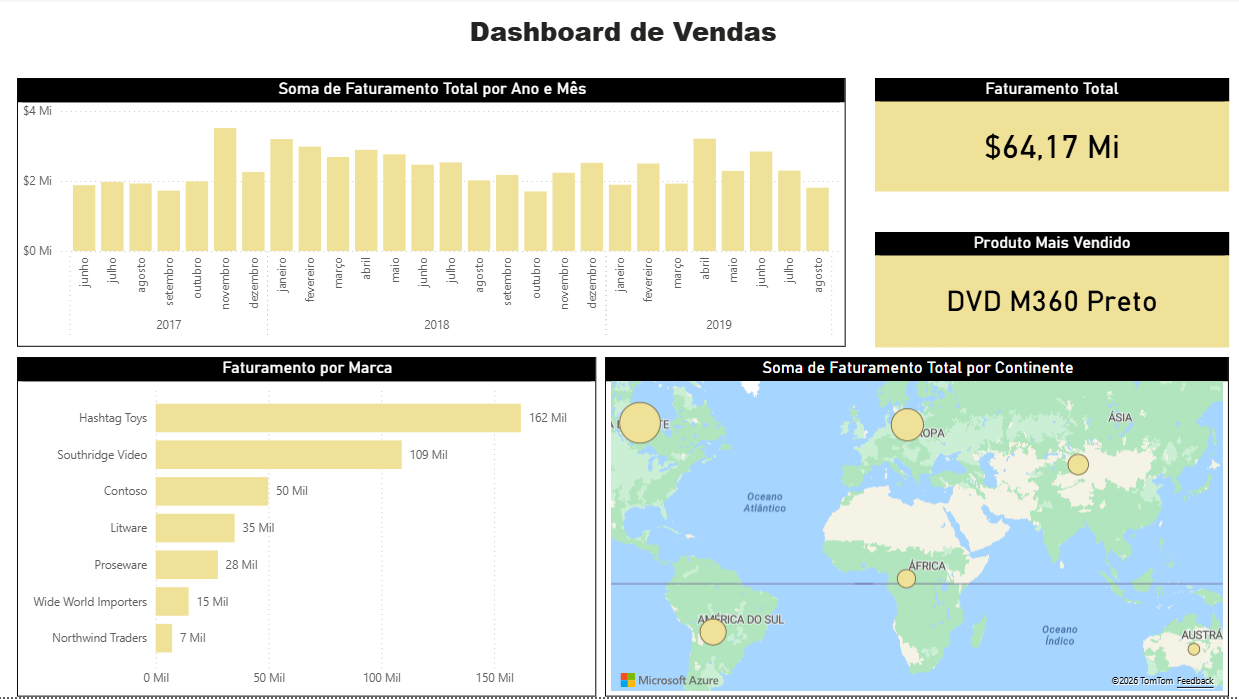

This screenshot's page, from the dashboard's own definition file:
{"tool":"powerbi","page":{"name":"Página 1","canvas":[1280,720],"ordinal":0},"visuals":[{"type":"card","title":"Faturamento Total","fields":{"Values":["Sum(DataBase.Faturamento Total)"]},"box":[904.9,82.4,364.8,117.5],"z":0},{"type":"card","title":"Produto Mais Vendido","fields":{"Values":["Min(DataBase.Produto)"]},"box":[904.6,241.4,365.1,118.6],"z":1000},{"type":"barChart","title":"Faturamento por Marca","fields":{"Category":["DataBase.Marca"],"Y":["Sum(DataBase.Qtd. Vendida)"]},"box":[20.6,370,596.7,350.4],"z":2000},{"type":"columnChart","fields":{"Category":["DataBase.Data da Venda.Variation.Hierarquia de datas.Ano","DataBase.Data da Venda.Variation.Hierarquia de datas.Mês"],"Y":["Sum(DataBase.Faturamento Total)"]},"box":[20.6,82.4,854.4,277.2],"z":3000},{"type":"azureMap","fields":{"Size":["Sum(DataBase.Faturamento Total)"],"Category":["DataBase.Continente"]},"box":[626.6,370,643.1,350.4],"z":4000},{"type":"textbox","box":[20.6,10.3,1249.1,51.5],"z":5000}]}

Visuals, with their boxes in screenshot pixels (x1, y1, x2, y2), scaled from the page's 1280x720 canvas onto the 1239x699 screenshot:
"Faturamento Total" card: <region>876, 80, 1229, 194</region>
"Produto Mais Vendido" card: <region>876, 234, 1229, 350</region>
"Faturamento por Marca" barChart: <region>20, 359, 598, 698</region>
columnChart - DataBase.Data da Venda.Variation.Hierarquia de datas.Ano x DataBase.Data da Venda.Variation.Hierarquia de datas.Mês: <region>20, 80, 847, 349</region>
azureMap - Sum(DataBase.Faturamento Total) x DataBase.Continente: <region>607, 359, 1229, 698</region>
textbox: <region>20, 10, 1229, 60</region>
